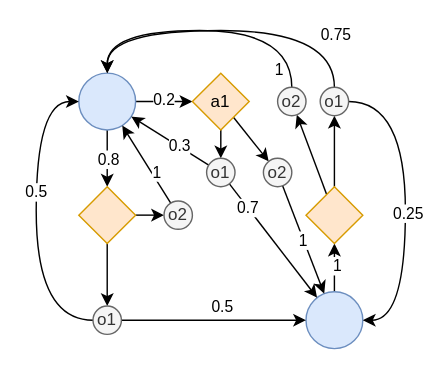
Image size: 447x373. Some labels were removed from this diagram. The shapes that lost their labels are listed below. From the top down, each one's box as (x1, y1, x2, y2) in pixels, then its label:
(77, 72, 136, 130): q0
(77, 185, 136, 244): a2
(305, 185, 363, 244): a3
(305, 290, 363, 349): q1
